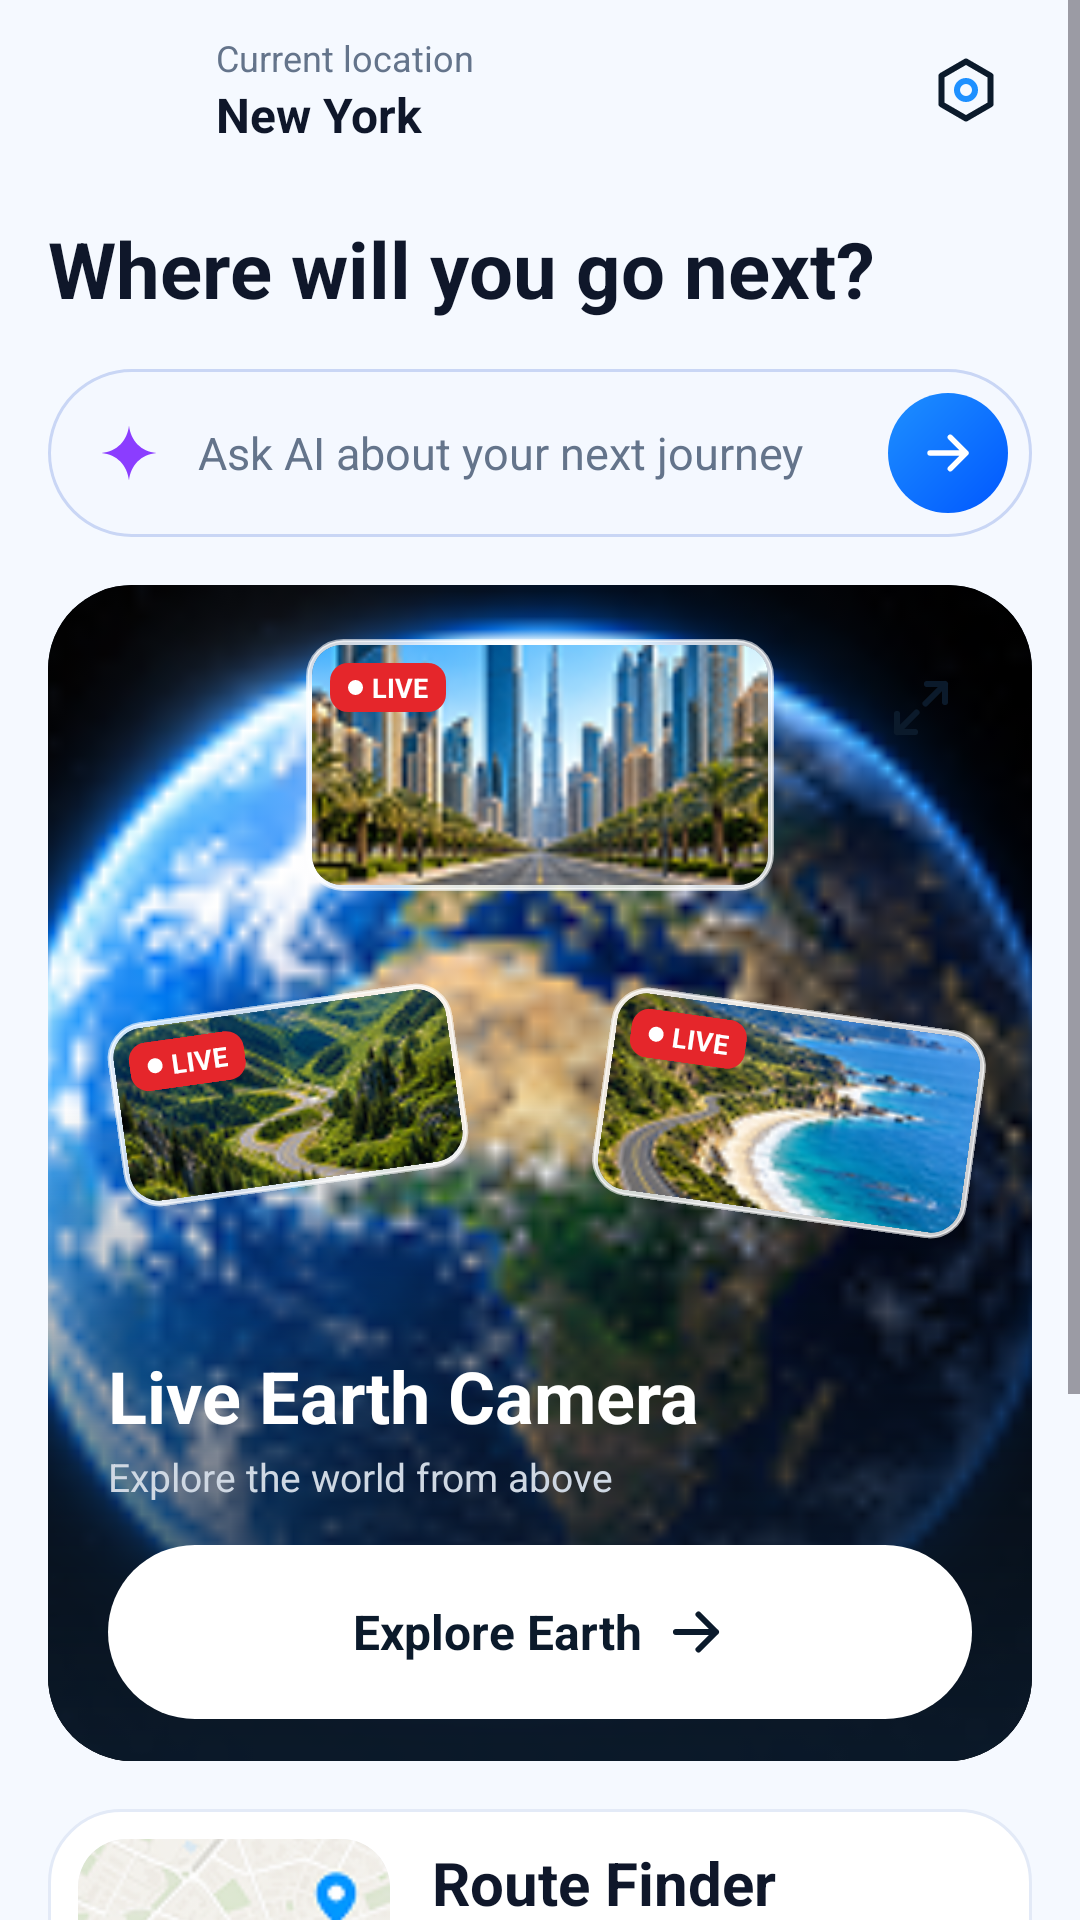

Named icons in this screenshot (1080*1920) and their centers, [x,y]:
Expand: [897,728]
Settings: [966,90]
